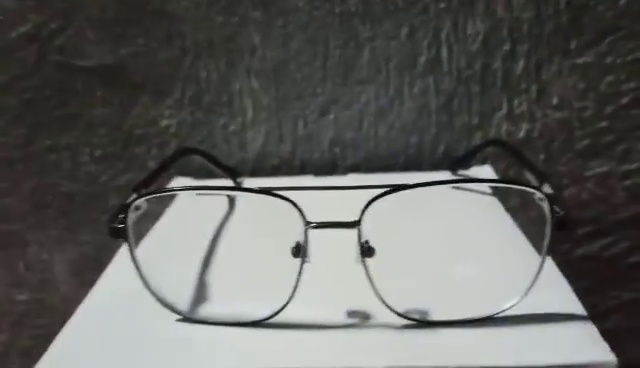glasses: (108, 138, 568, 335)
